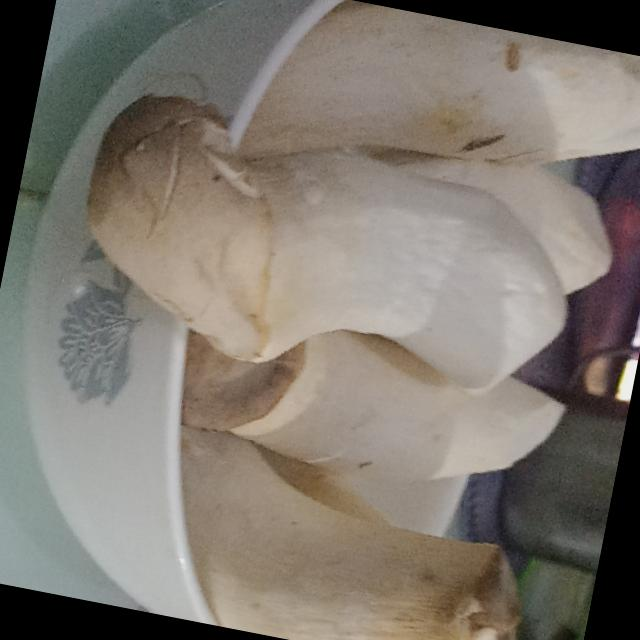Pleurotus eryngii: (65, 92, 602, 441), (159, 417, 540, 640)
